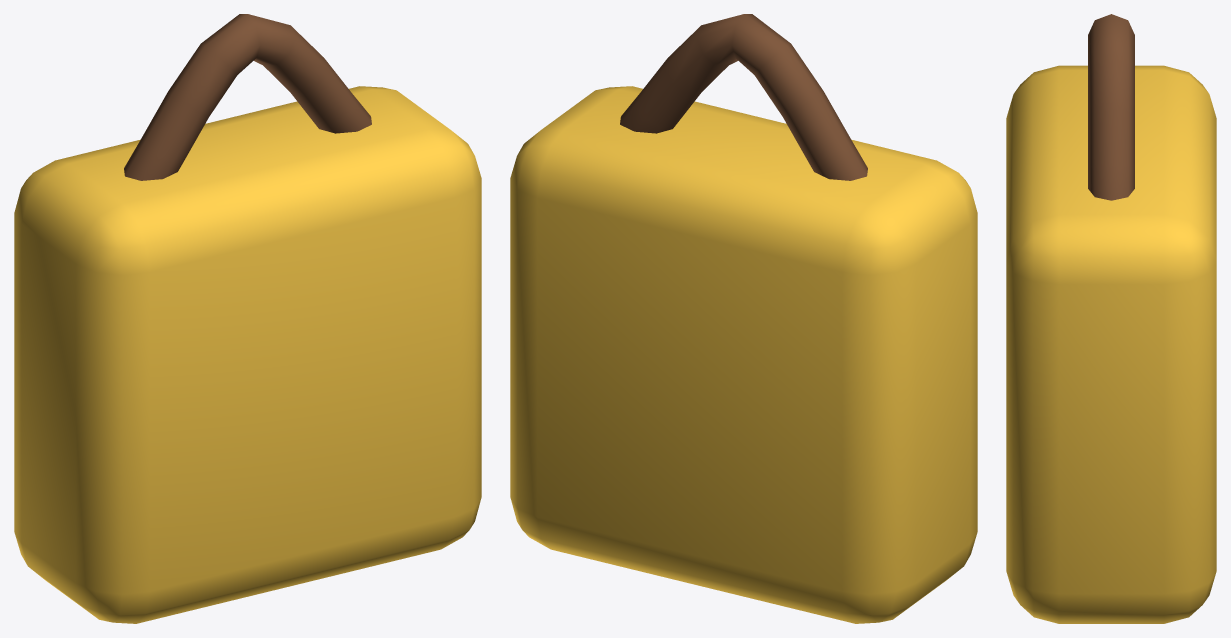
The model's file is icon_shop.glb.
3 views of the same model, side by side, from view 1: azimuth 30°, elevation 25°; view 2: azimuth 150°, elevation 25°; view 3: azimuth 270°, elevation 25° (orthographic). The views are drawn at different scales.
Parts seen in each view (by area): view 1: icon_shop; view 2: icon_shop; view 3: icon_shop.
Boxes of the visible parts, x1,y1,x2,y2 form: icon_shop: (14,14,481,623); icon_shop: (510,14,977,623); icon_shop: (1006,14,1216,623).
Bounding box in the file's own units: 0.34 × 0.448 × 0.16.
